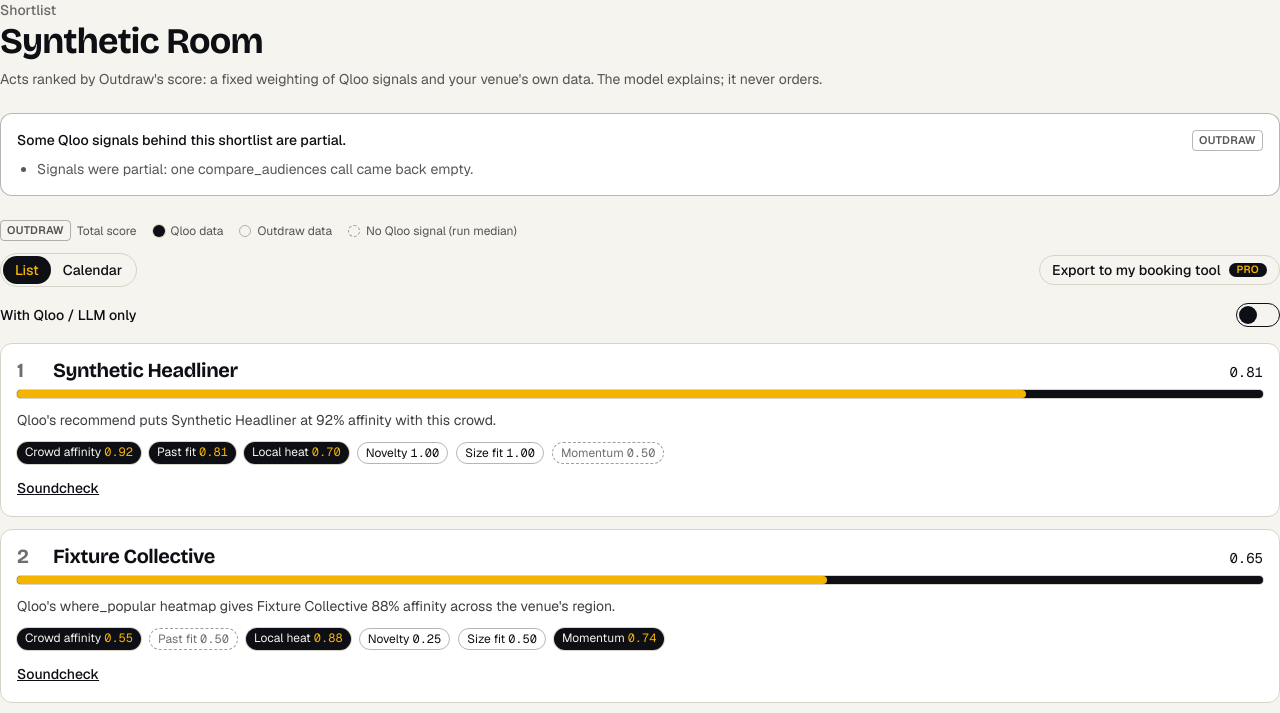
Test: With Qloo / LLM only toggle › never shows the agent's error text for a list the model botched
What coordinates should you click on to do the following:
click the switch named "With Qloo / LLM only"
I would click on:
 (1258, 315)
Its box is [1236,303,1279,327].
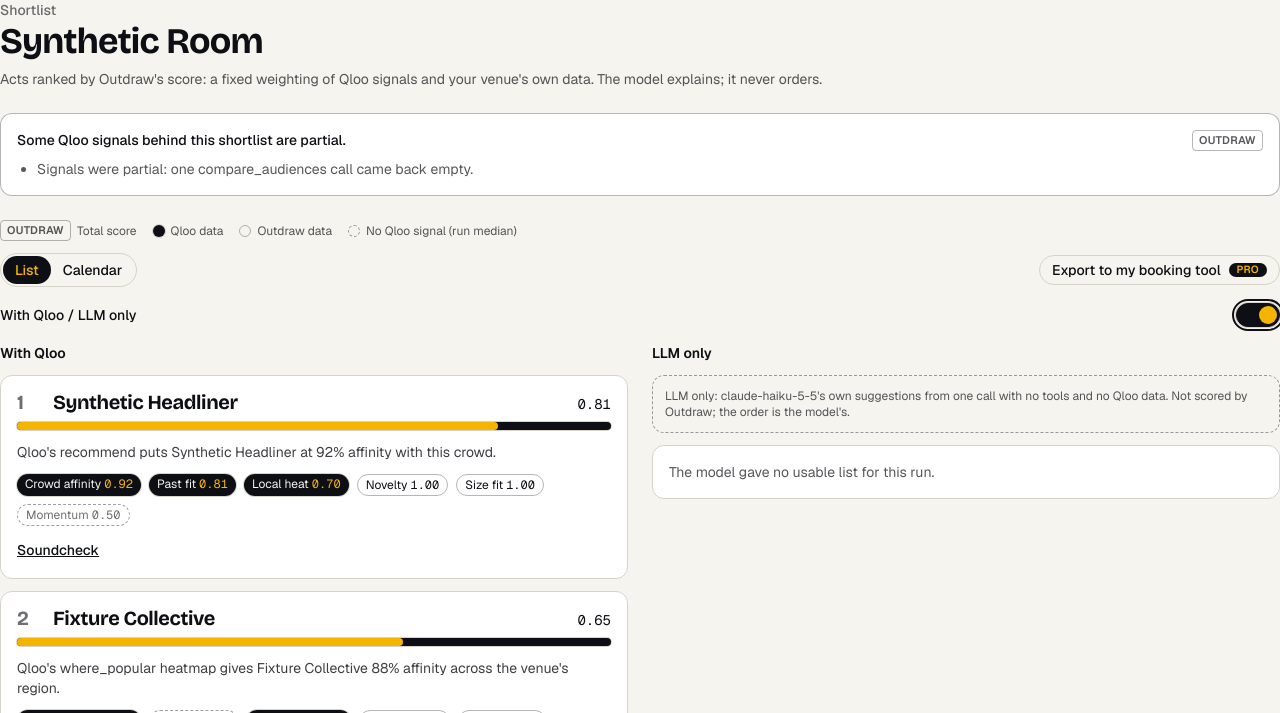
Expected: the message reads "The model gave no usable list for this run.", [669,463,934,481]
